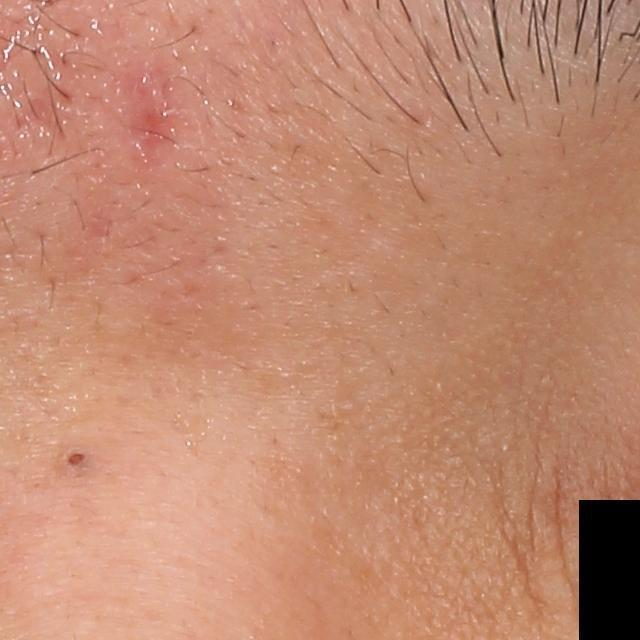comedo: (60, 442, 91, 473)
